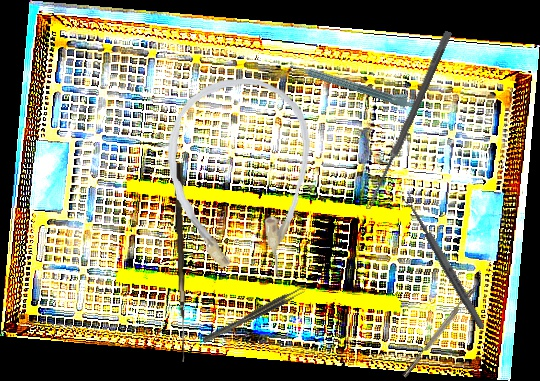Cannula: (163, 75, 317, 284)
Chopper: (397, 270, 488, 378)
Handpiece: (288, 56, 418, 111)
Hook Surgical: (171, 162, 194, 363)
Surgical Spoon: (364, 29, 453, 212), (401, 192, 487, 331)
Tissue Forceps: (200, 285, 307, 344)
